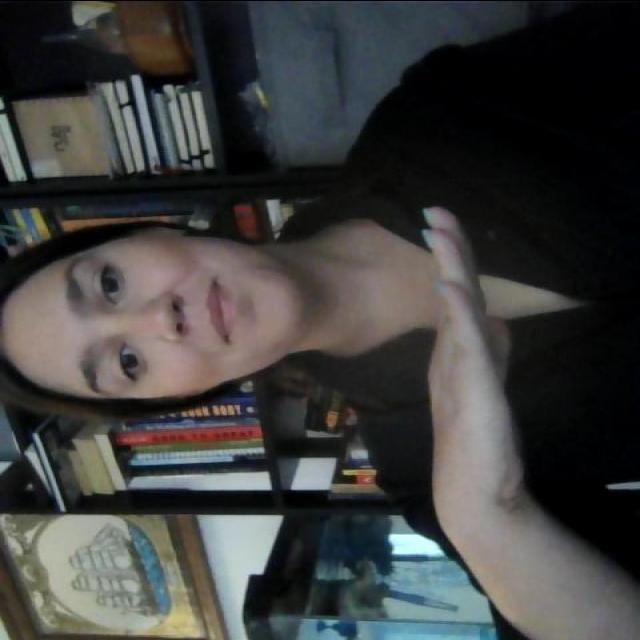Paper: (400, 190, 556, 521)
